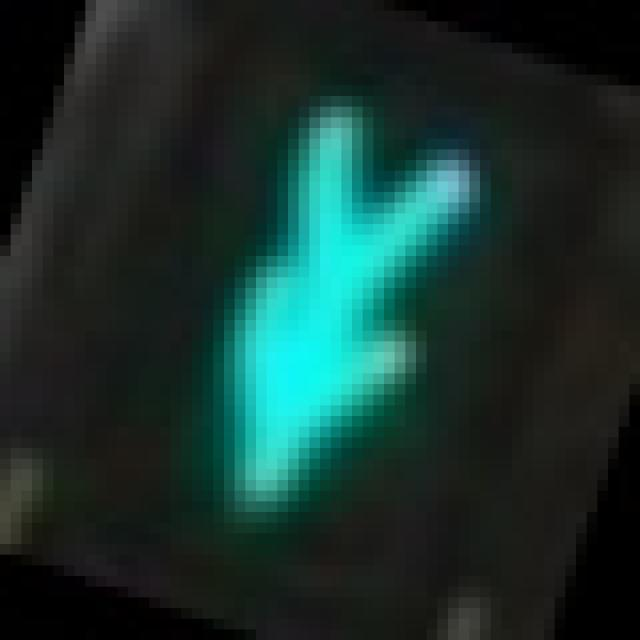geen-crossing: (128, 64, 480, 534)
